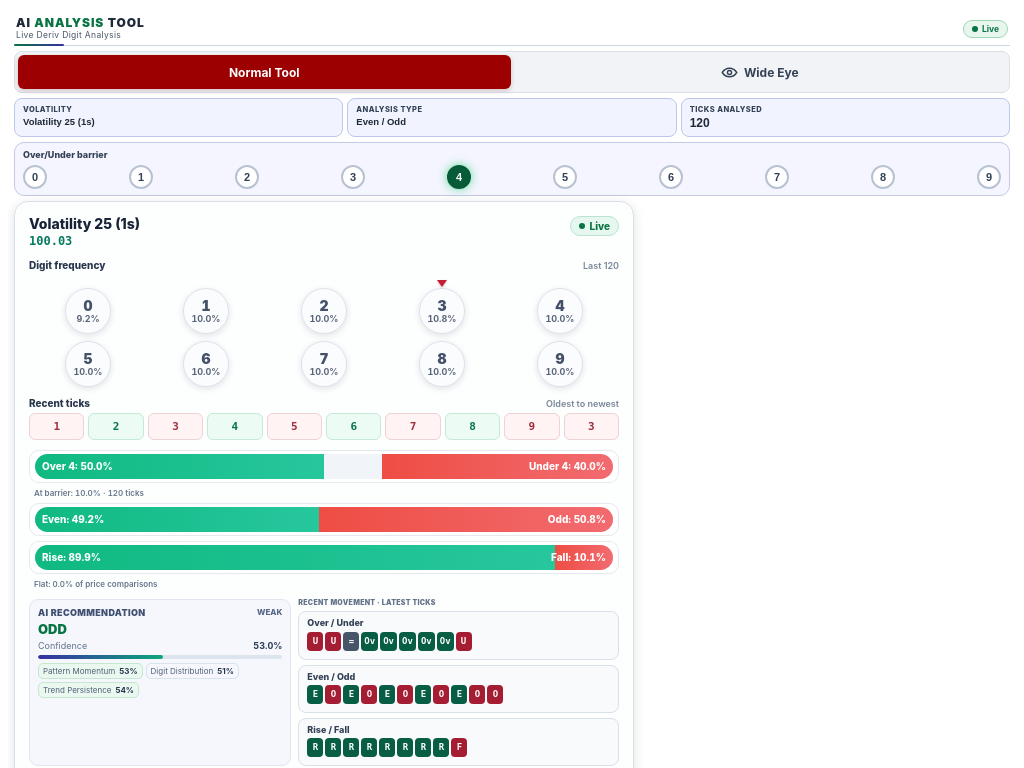
Test: AI Analysis site-session lifecycle › uses selected market precision and tick window for live analysis, then releases streams on exit
Expected: the number field with test id "input-tick-window" holds "120", [690,116,1001,130]
Expected: the button with test id "button-barrier-4" is shown, [447,165,471,189]
Click the button with test id "button-barrier-6" at (671, 177), box [659,165,683,189]
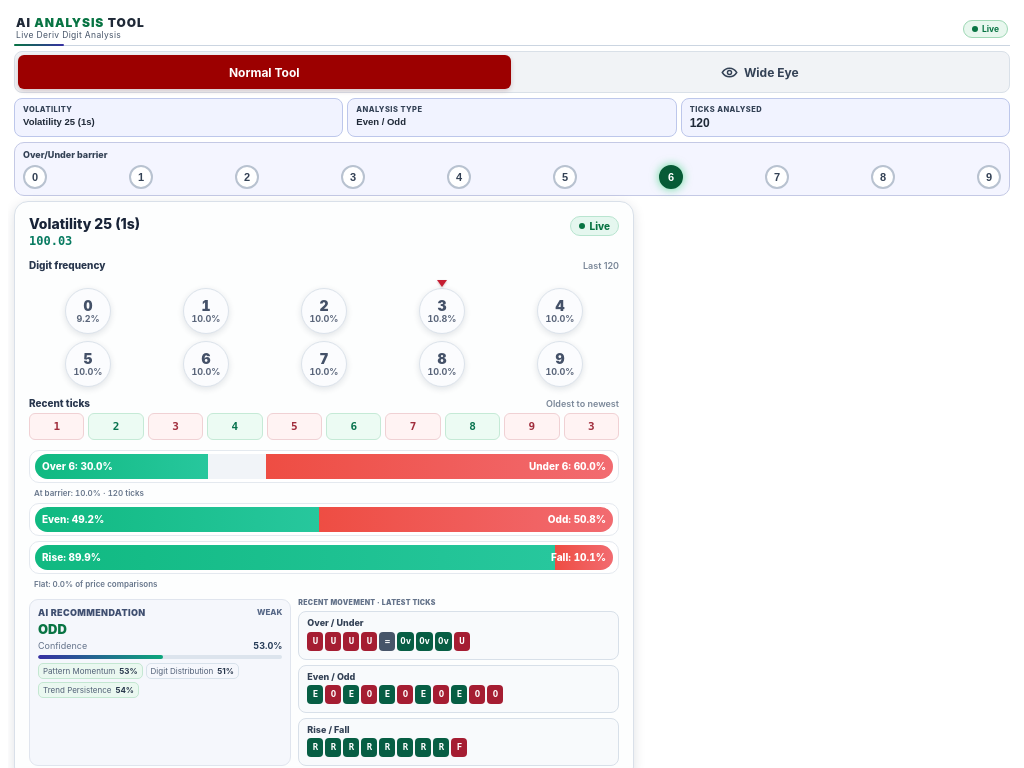
Expected: the text with test id "text-over-under-equal-volatility-25-1s" shows "At barrier: 10.0%", [34,488,144,498]
Expected: the element with test id "bar-over-under-volatility-25-1s" shows "Over 6: 30.0%", [29,450,619,483]
Expected: the element with test id "bar-over-under-volatility-25-1s" shows "Under 6: 60.0%", [29,450,619,483]
Click the button with test id "button-barrier-4" at (459, 177), box [447,165,471,189]
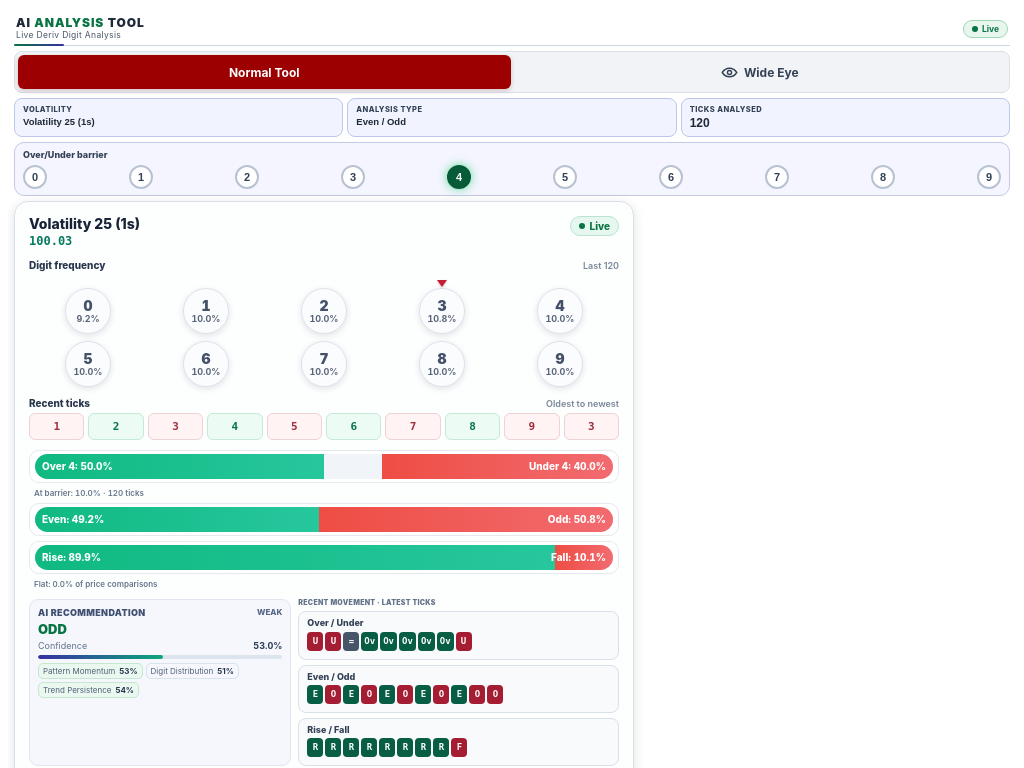
Select "Matches / Differs" in the dropdown labelled "Analysis Type" at (512, 122), box [356,116,668,127]
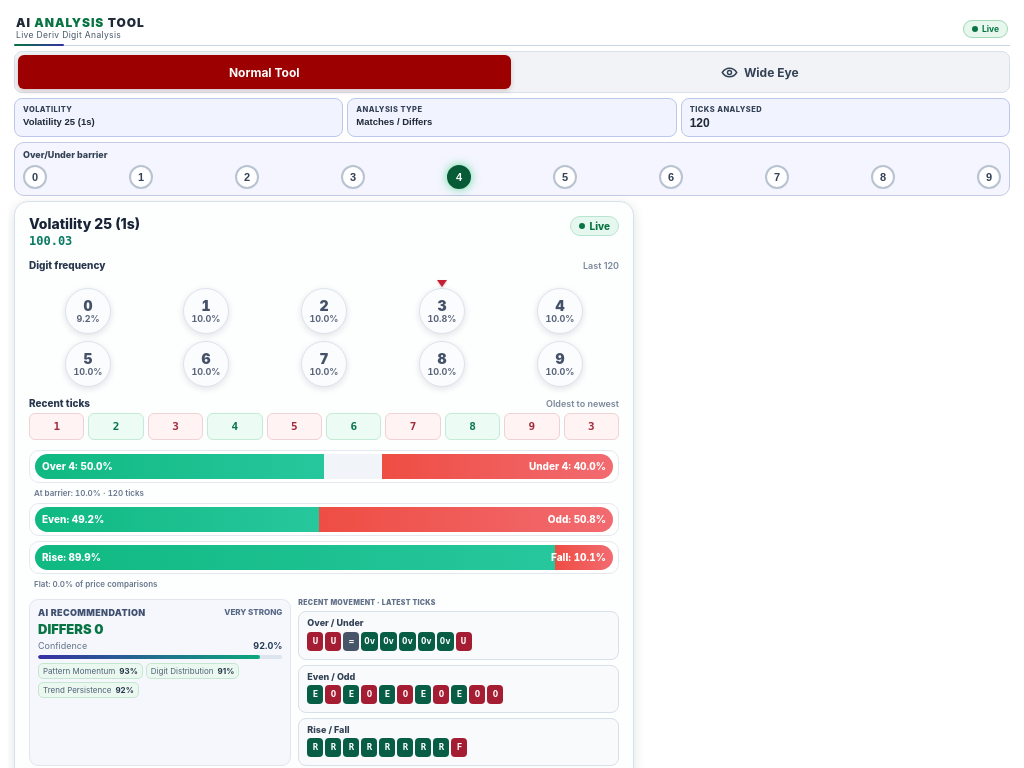
Select "Jump 10" in the dropdown labelled "Volatility" at (179, 122), box [23,116,334,127]
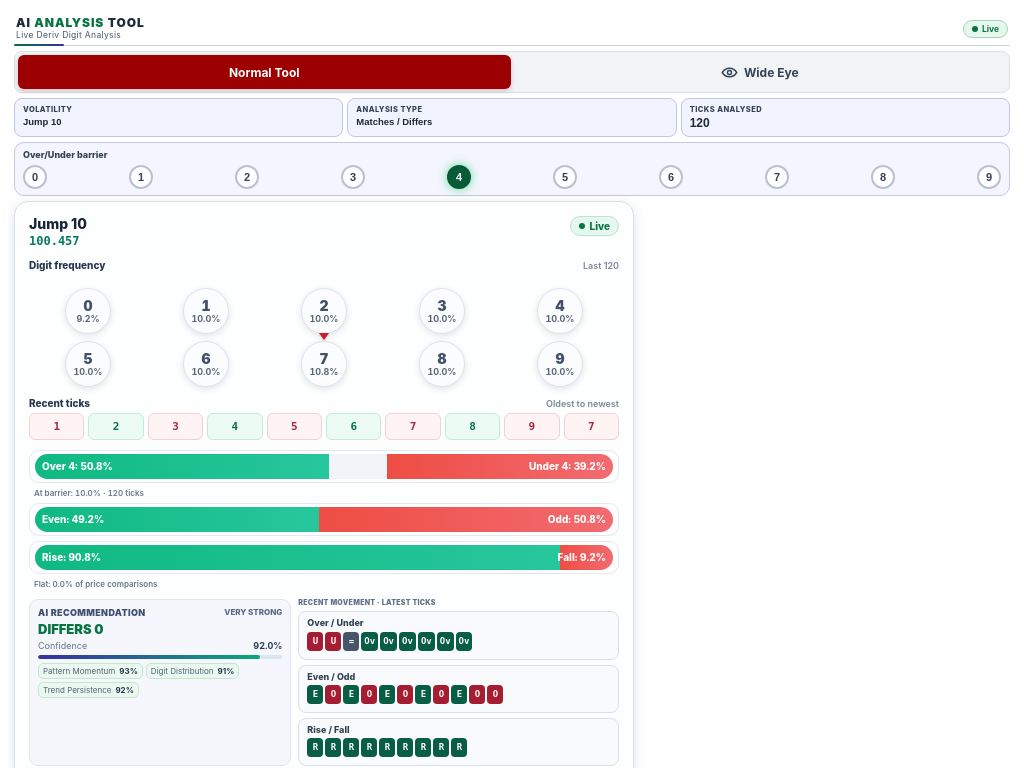
Expected: the text "Last 120" is shown, [583,260,619,271]
Expected: the text "100.03" is gone
Expected: the text "100.457" is shown, [29,235,87,249]
Replace the text in the number field with test id "input-tick-window" with "500" at (845, 123), box [690,116,1001,130]
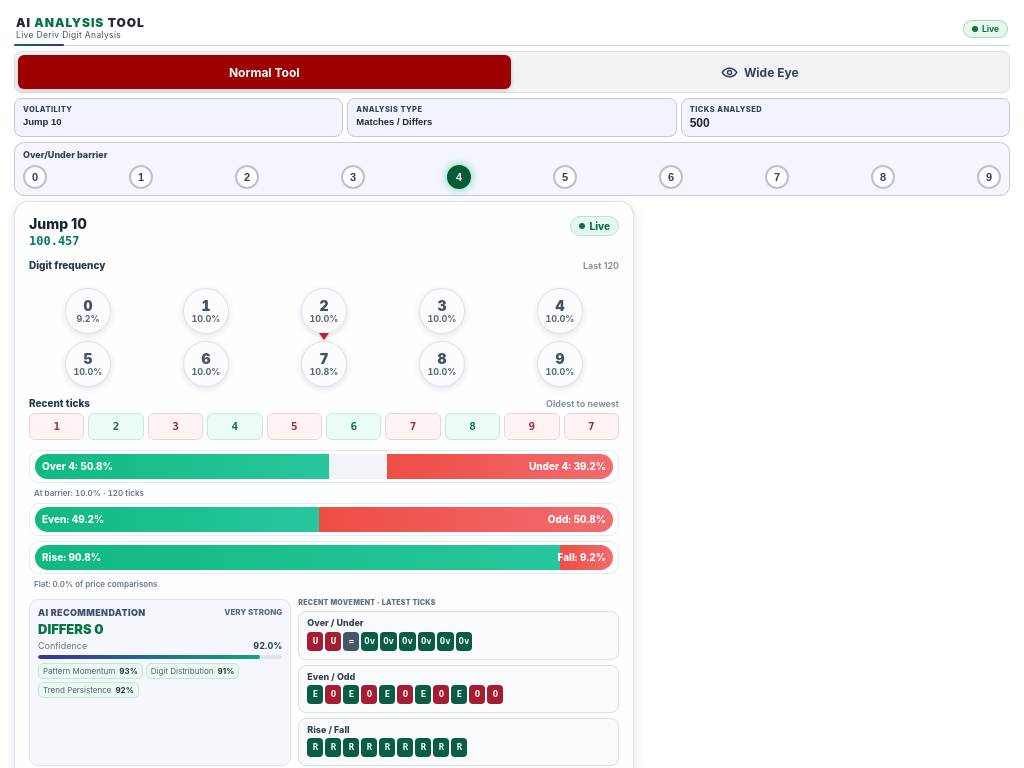
Leave the number field with test id "input-tick-window", box [690,116,1001,130]
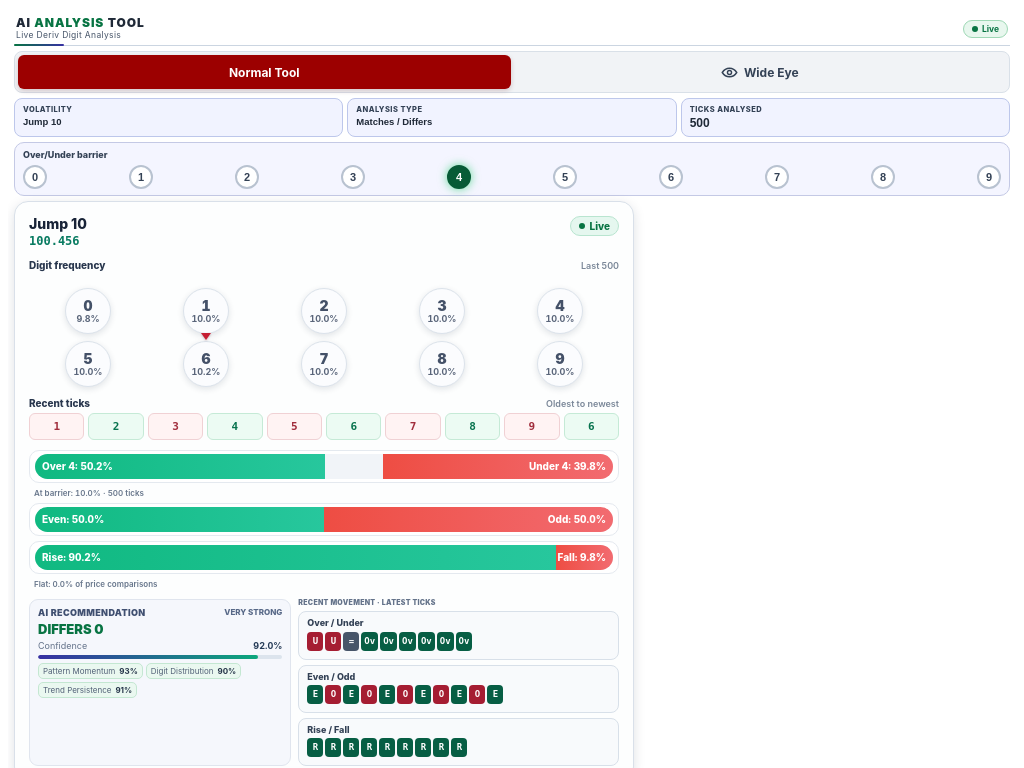
Expected: the text with class "aat-market-card__digit-number" below "Digit frequency" reads "6", [202,350,210,367]
Expected: the text "100.456" is shown, [29,235,87,249]
Expected: the text "Last 500" is shown, [581,260,619,271]
